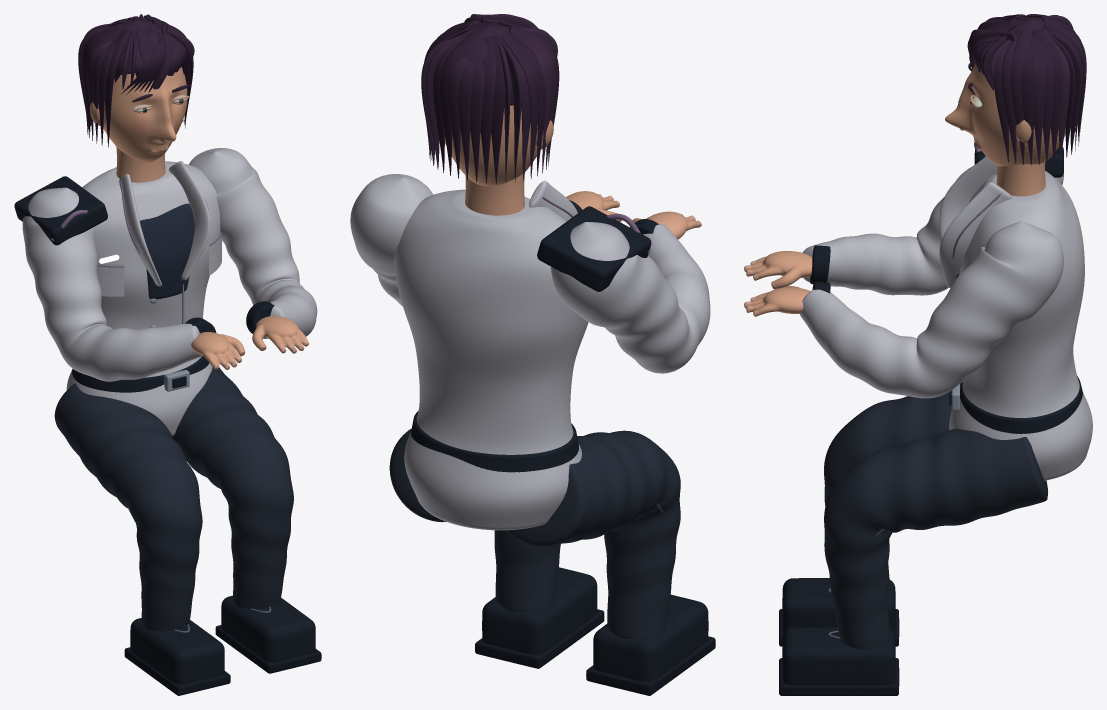
File: liaison.gltf
3 renders of one model, left to right at view 1: azimuth 30°, elevation 25°; view 2: azimuth 150°, elevation 25°; view 3: azimuth 270°, elevation 25°, orthographic. The views are drawn at different scales.
Parts seen in each view (by area): view 1: council-asset-1-liaison_Fabric, council-asset-1-liaison_Leather, sculpted-head_Hair, sculpted-head_Skin, council-asset-1-liaison_Skin, council-asset-1-liaison_Metal; view 2: council-asset-1-liaison_Fabric, council-asset-1-liaison_Leather, sculpted-head_Hair, council-asset-1-liaison_Skin, sculpted-head_Skin; view 3: council-asset-1-liaison_Fabric, council-asset-1-liaison_Leather, sculpted-head_Hair, council-asset-1-liaison_Skin, sculpted-head_Skin.
Part boxes in pixels (box(x1,y1,x2,y2)): council-asset-1-liaison_Fabric: box(22, 148, 317, 631); council-asset-1-liaison_Leather: box(14, 176, 321, 695); sculpted-head_Hair: box(78, 14, 194, 147); sculpted-head_Skin: box(90, 66, 187, 162); council-asset-1-liaison_Skin: box(116, 147, 308, 369); council-asset-1-liaison_Metal: box(150, 284, 189, 391); council-asset-1-liaison_Fabric: box(350, 174, 710, 638); council-asset-1-liaison_Leather: box(411, 200, 715, 695); sculpted-head_Hair: box(421, 14, 559, 183); council-asset-1-liaison_Skin: box(465, 173, 701, 239); sculpted-head_Skin: box(445, 105, 553, 186); council-asset-1-liaison_Fabric: box(799, 156, 1092, 650); council-asset-1-liaison_Leather: box(779, 143, 1082, 695); sculpted-head_Hair: box(967, 14, 1086, 165); council-asset-1-liaison_Skin: box(744, 162, 1045, 316); sculpted-head_Skin: box(945, 63, 1065, 166).
Size of what is drawn, in the model's own units: 0.9065 by 2.05 by 1.02.
Materials: 7 (5 with a texture image).
